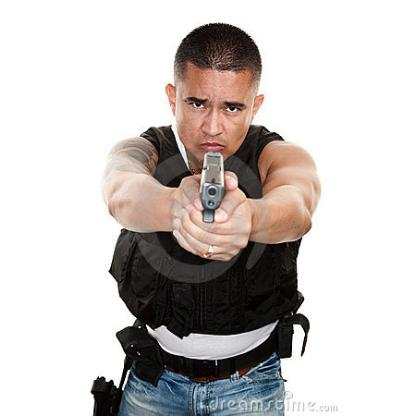gun: (197, 150, 225, 244)
